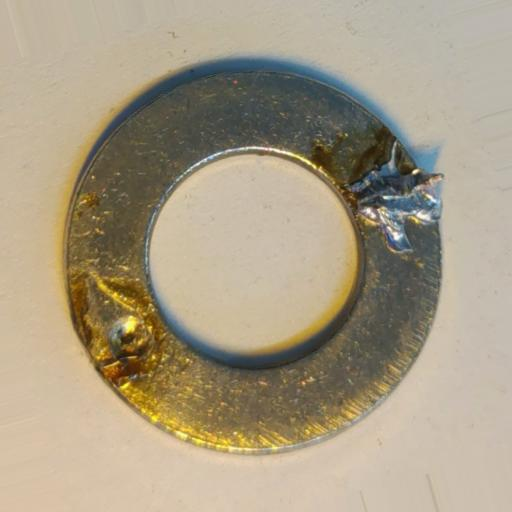excess_material: (341, 140, 446, 254), (82, 268, 157, 388)
